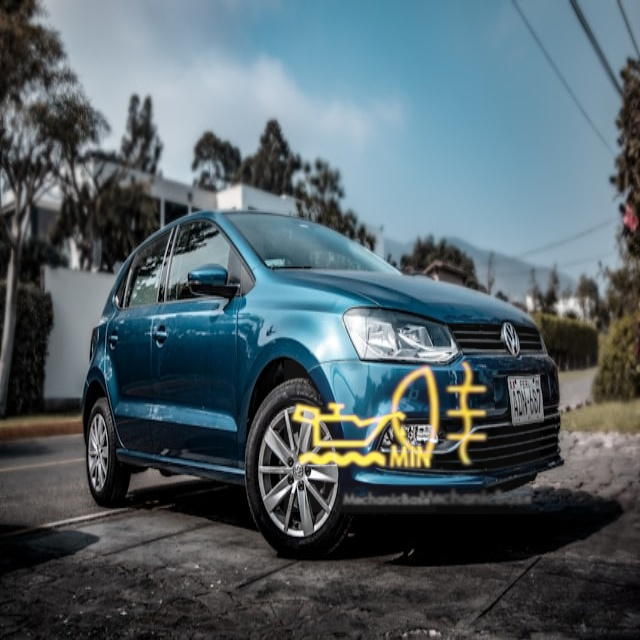symbol: (340, 314, 540, 514), (284, 360, 436, 512)
